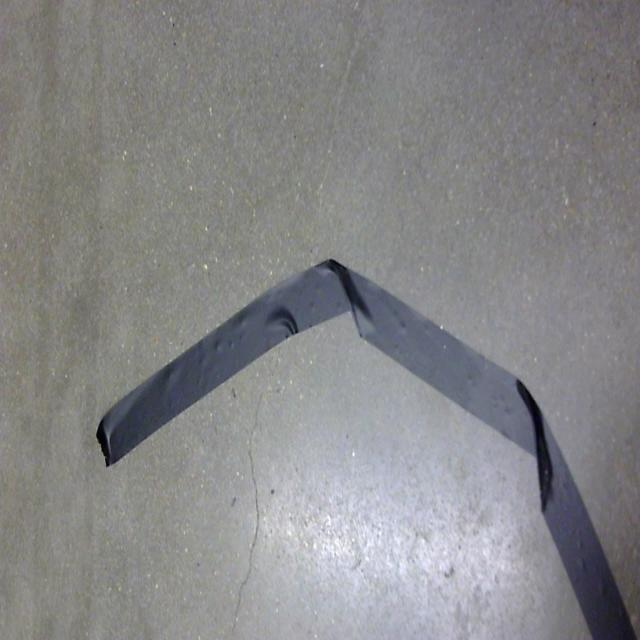tape: (62, 220, 640, 640)
